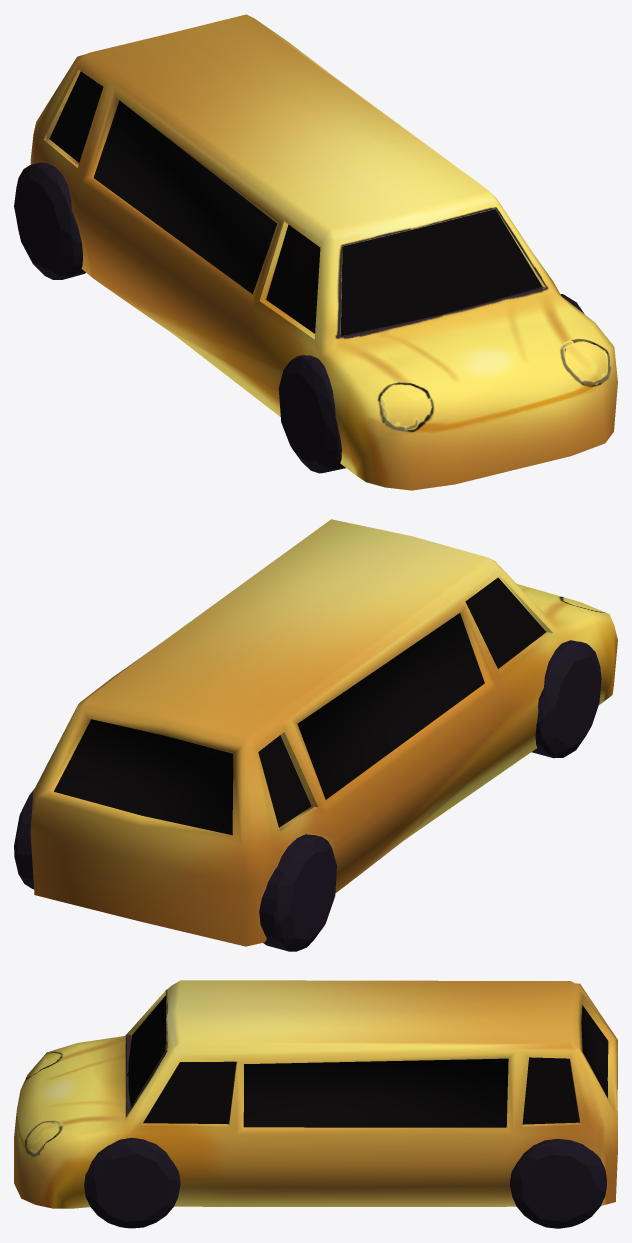
Rendered from yellowlimousine.obj.
The picture shows the model from 3 angles, top to bottom: view 1: azimuth 30°, elevation 25°; view 2: azimuth 150°, elevation 25°; view 3: azimuth 270°, elevation 25°; orthographic projection. The views are drawn at different scales.
Parts seen in each view (by area): view 1: YELLOWCAR_2.001; view 2: YELLOWCAR_2.001; view 3: YELLOWCAR_2.001.
Part boxes in pixels (x1,y1,x2,y2): YELLOWCAR_2.001: (14, 14, 617, 490); YELLOWCAR_2.001: (14, 519, 617, 951); YELLOWCAR_2.001: (14, 980, 617, 1228).
Size of the model in its own units: 2.17 by 1.56 by 5.1.
